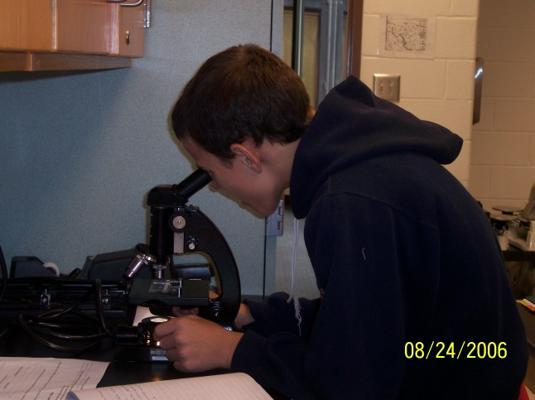person: (152, 43, 530, 400)
